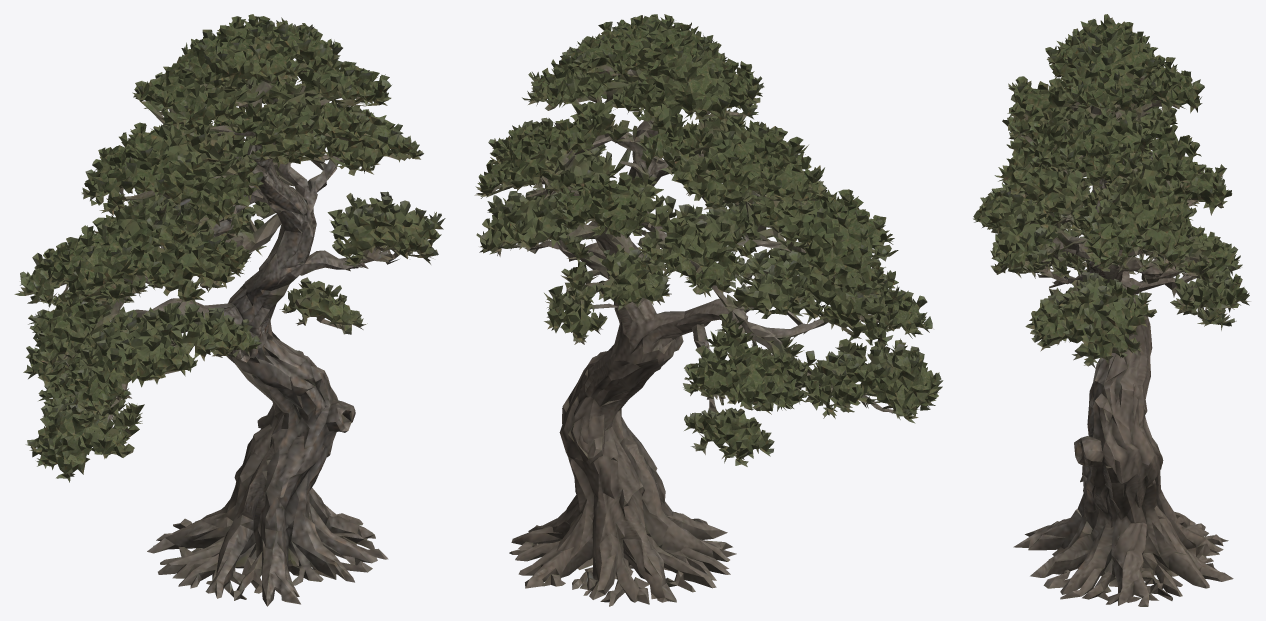
The model's file is pine-source.glb.
3 views of the same model, side by side, from view 1: azimuth 30°, elevation 25°; view 2: azimuth 150°, elevation 25°; view 3: azimuth 270°, elevation 25° (orthographic). The views are drawn at different scales.
Bounding box in the file's own units: 1.57 × 1.9 × 0.9271.
Materials: 1 (1 with a texture image).
